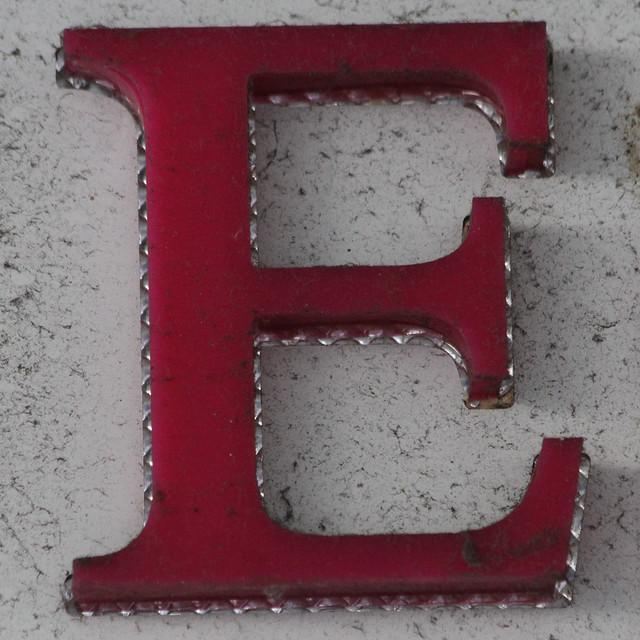E: (27, 12, 599, 619)
